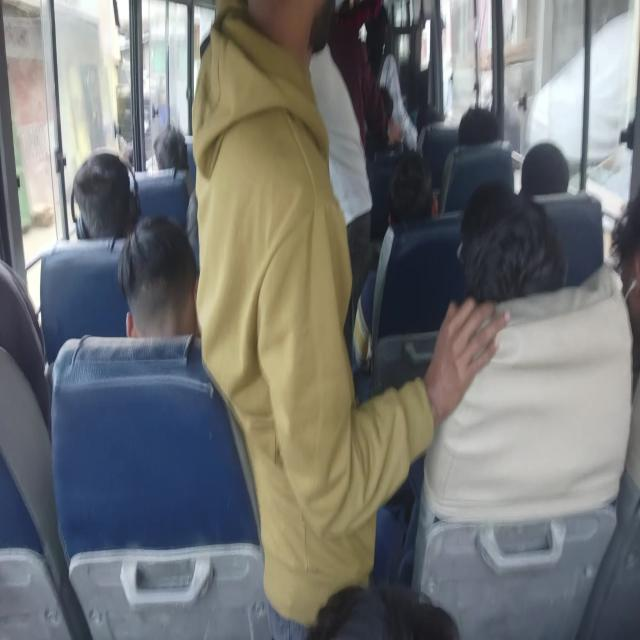person: (292, 0, 366, 189), (298, 580, 520, 640), (463, 190, 548, 324), (120, 238, 226, 342), (218, 0, 328, 67), (87, 150, 150, 263), (370, 16, 424, 108), (0, 251, 40, 375), (324, 0, 377, 77), (620, 212, 640, 387), (399, 138, 433, 230), (520, 142, 561, 205), (466, 105, 508, 163), (132, 135, 194, 173), (411, 96, 436, 130)
